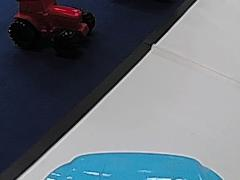Tracktor: (5, 0, 98, 51)
